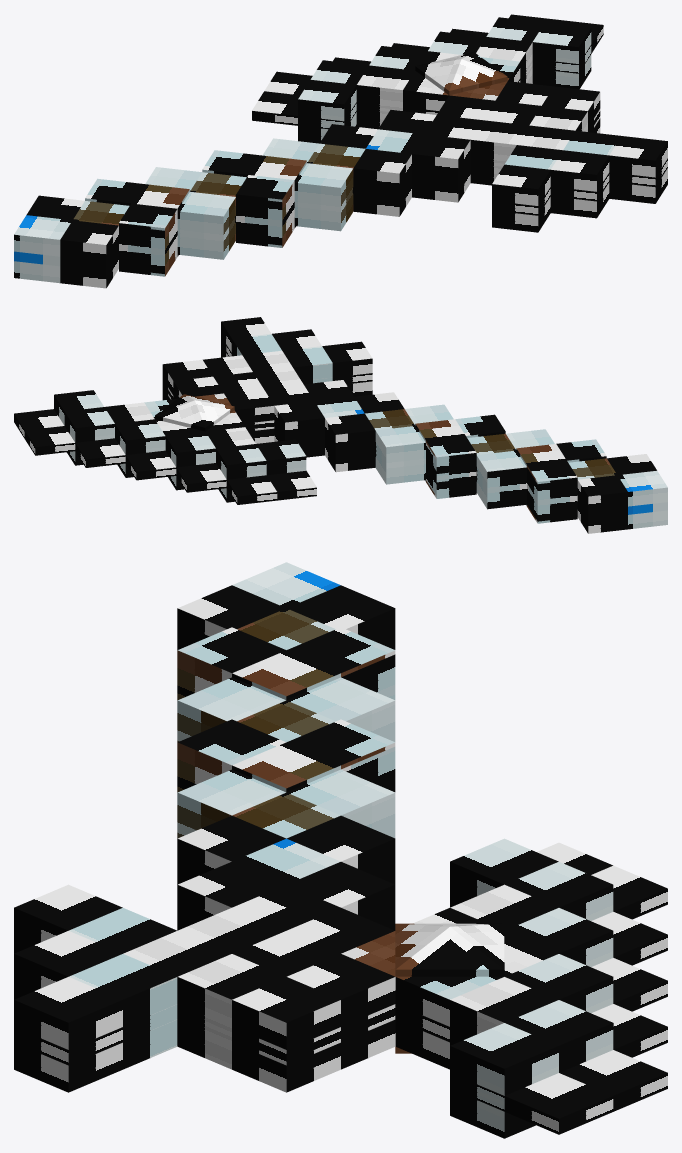
Rendered from axe_aquamarine.obj.
3 renders of one model, top to bottom at view 1: azimuth 30°, elevation 25°; view 2: azimuth 150°, elevation 25°; view 3: azimuth 270°, elevation 25°, orthographic. The views are drawn at different scales.
Parts seen in each view (by area): view 1: Cube.363_Cube.474; view 2: Cube.363_Cube.474; view 3: Cube.363_Cube.474.
Part boxes in pixels (bbox=[...]): Cube.363_Cube.474: bbox=[14, 14, 667, 288]; Cube.363_Cube.474: bbox=[14, 317, 667, 533]; Cube.363_Cube.474: bbox=[14, 562, 667, 1138].
Bounding box in the file's own units: 16.26 × 1.77 × 8.49.
